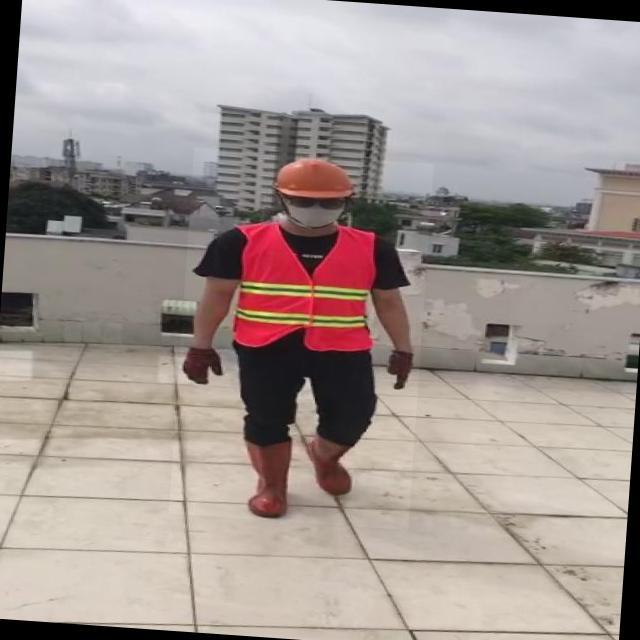Gloves: (178, 346, 224, 387), (385, 350, 412, 392)
Helmet: (268, 154, 360, 200)
Human: (169, 147, 434, 530)
Safety Boot: (237, 438, 294, 517), (303, 431, 360, 496)
Safety Vest: (229, 221, 381, 357)
